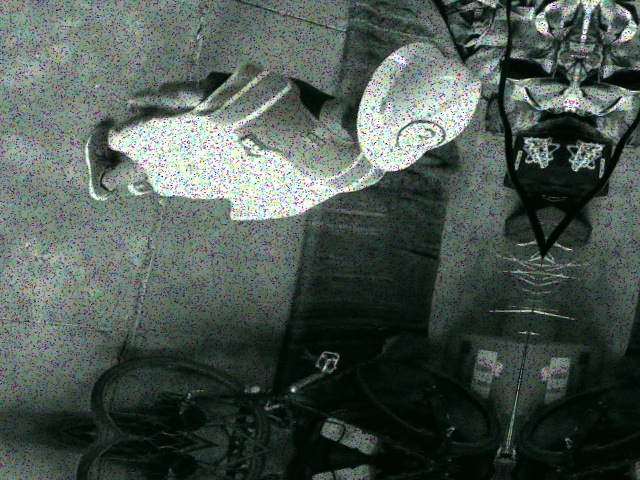three: (394, 117, 446, 155)
